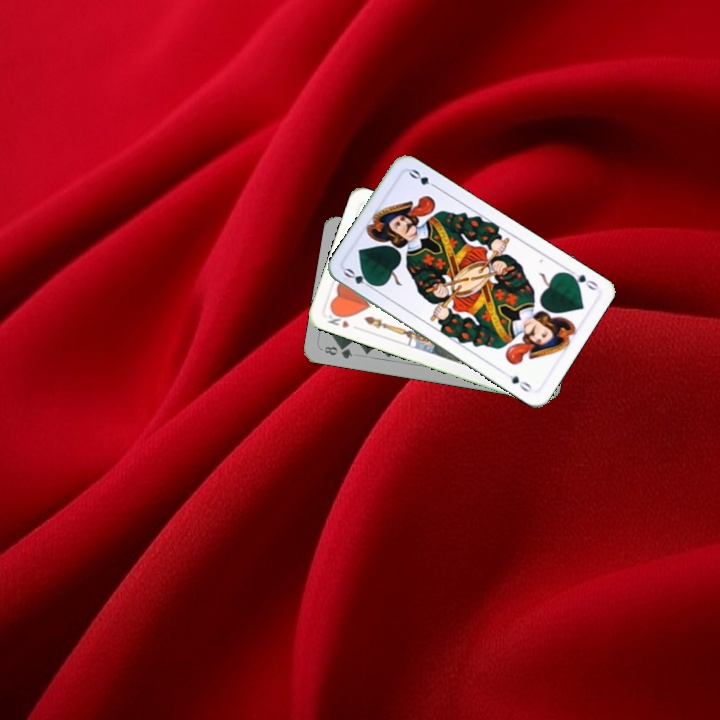G8: (320, 342, 355, 361)
GO: (339, 264, 379, 292), (563, 265, 601, 293)
HK: (324, 307, 352, 331)
